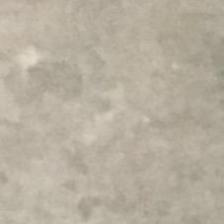Non_Crack: (12, 23, 224, 202)
